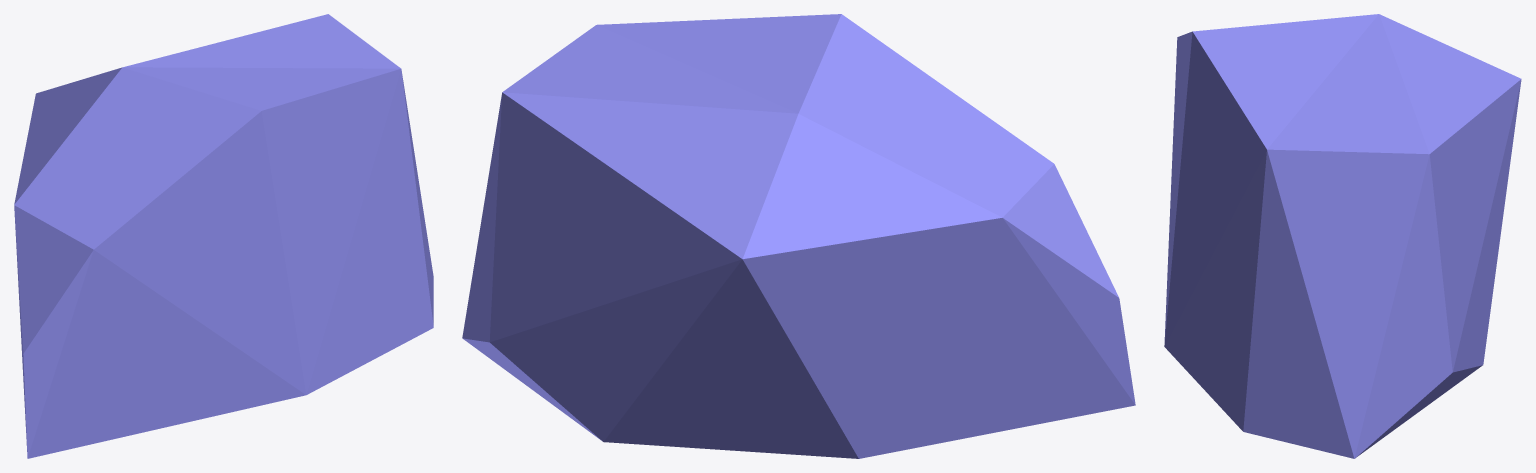
Rendered from Rock_03_Collider_01.FBX.
3 views of the same model, side by side, from view 1: azimuth 30°, elevation 25°; view 2: azimuth 150°, elevation 25°; view 3: azimuth 270°, elevation 25° (orthographic). The views are drawn at different scales.
Parts seen in each view (by area): view 1: COLLIDER1; view 2: COLLIDER1; view 3: COLLIDER1.
Part boxes in pixels (left/top/right/bottom): COLLIDER1: left=14, top=14, right=433, bottom=458; COLLIDER1: left=462, top=14, right=1135, bottom=458; COLLIDER1: left=1164, top=14, right=1521, bottom=458.
Bounding box in the file's own units: 33.25 × 18.26 × 19.75.
